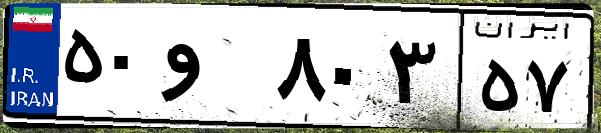0: (330, 28, 385, 110), (110, 28, 158, 98)
3: (385, 28, 445, 110)
5: (57, 26, 110, 100), (475, 38, 525, 113)
7: (525, 38, 570, 115)
8: (270, 28, 330, 110)
و: (158, 20, 270, 120)
